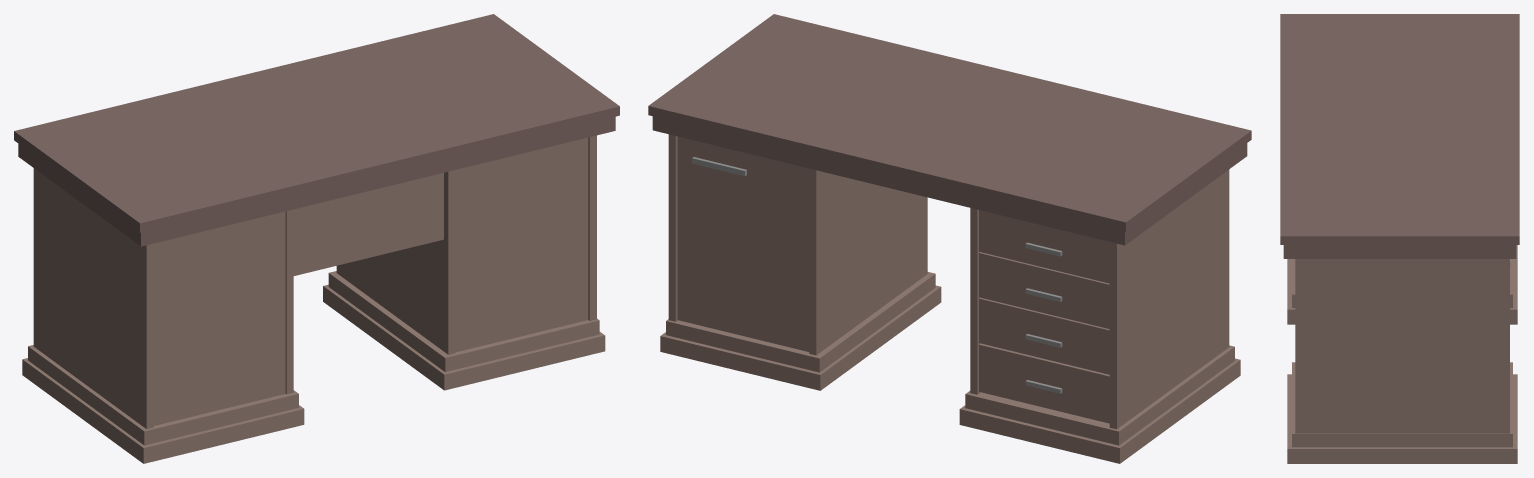
The model's file is old_desk.glb.
3 views of the same model, side by side, from view 1: azimuth 30°, elevation 25°; view 2: azimuth 150°, elevation 25°; view 3: azimuth 270°, elevation 25° (orthographic). The views are drawn at different scales.
Visible parts, largest first — view 1: furniture_014; view 2: furniture_014; view 3: furniture_014.
Boxes of the visible parts, x1,y1,x2,y2 form: furniture_014: (14, 14, 619, 463); furniture_014: (648, 14, 1251, 463); furniture_014: (1280, 14, 1519, 463).
Size of the model in its own units: 1.25 by 0.6078 by 0.567.
